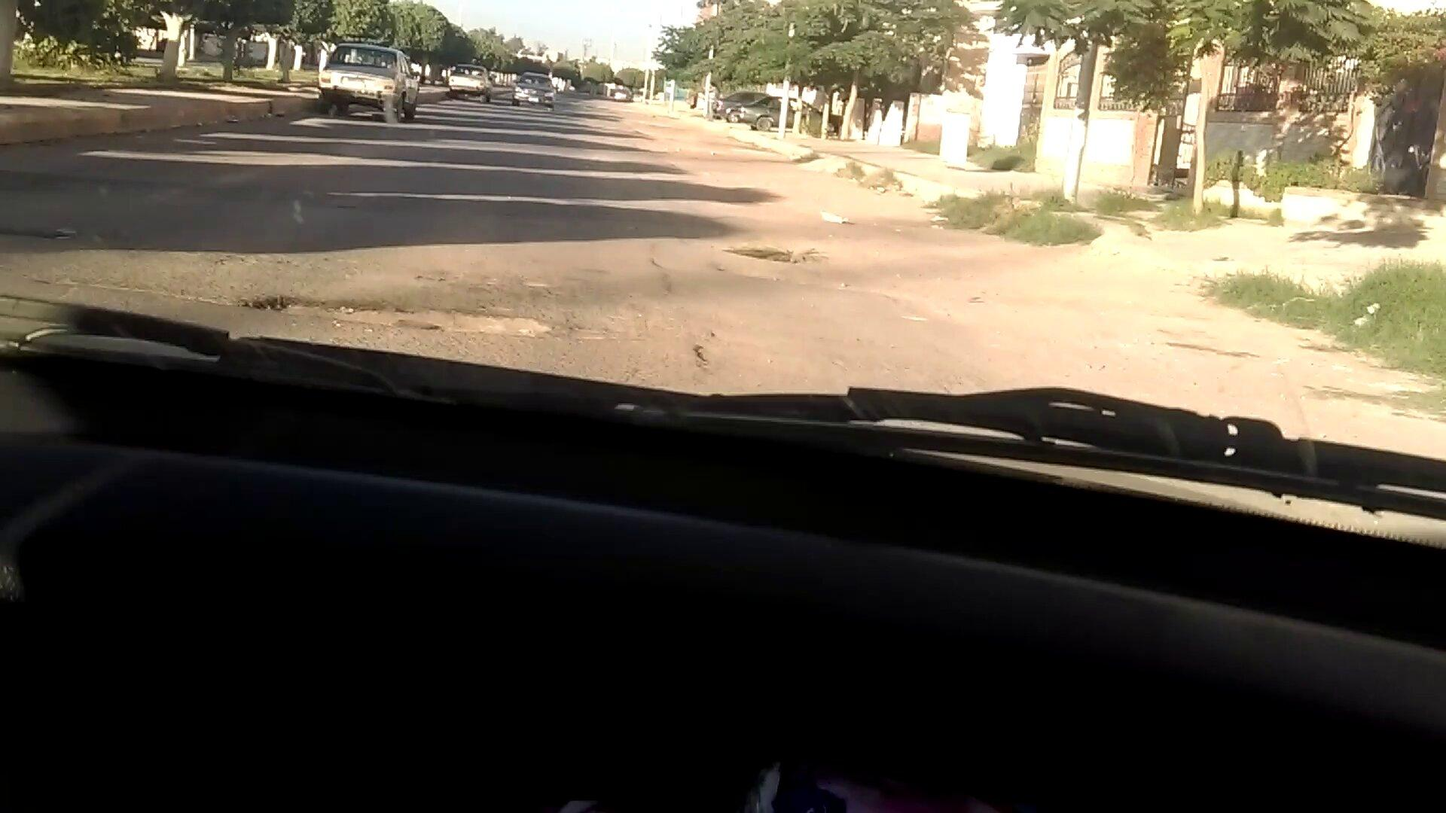Pothole: (226, 280, 651, 363), (731, 235, 821, 290)
